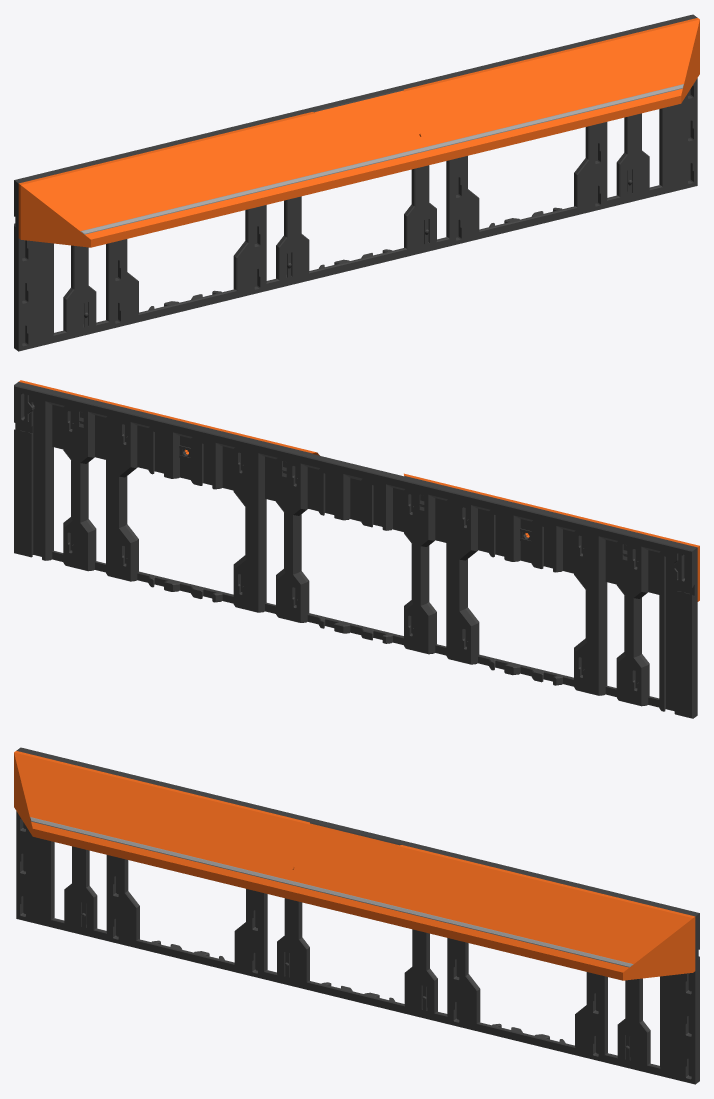
The model's file is Faceplate_ClassicPro_4W-15H.lib.glb.
3 views of the same model, one above another, from view 1: azimuth 30°, elevation 25°; view 2: azimuth 150°, elevation 25°; view 3: azimuth 330°, elevation 25° (orthographic).
Visible parts, largest first — view 1: Faceplate_ClassicPro_4W-15H; view 2: Faceplate_ClassicPro_4W-15H; view 3: Faceplate_ClassicPro_4W-15H.
Boxes of the visible parts, bbox=[...] form: Faceplate_ClassicPro_4W-15H: bbox=[14, 14, 699, 351]; Faceplate_ClassicPro_4W-15H: bbox=[14, 380, 699, 718]; Faceplate_ClassicPro_4W-15H: bbox=[14, 747, 699, 1084].
Size of the model in its own units: 351 by 83 by 29.48.
